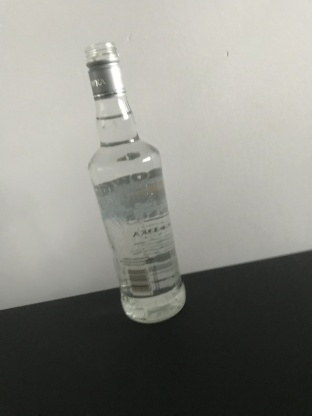nakretka: (82, 39, 128, 102), (82, 39, 127, 101)
